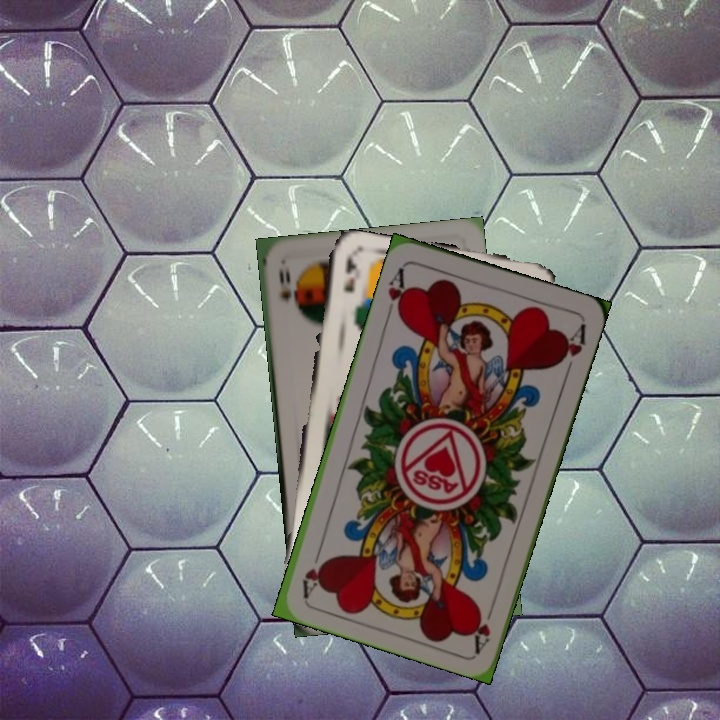EK: (339, 254, 360, 296)
HA: (383, 263, 412, 322), (469, 596, 499, 653)
SO: (275, 264, 294, 304)
